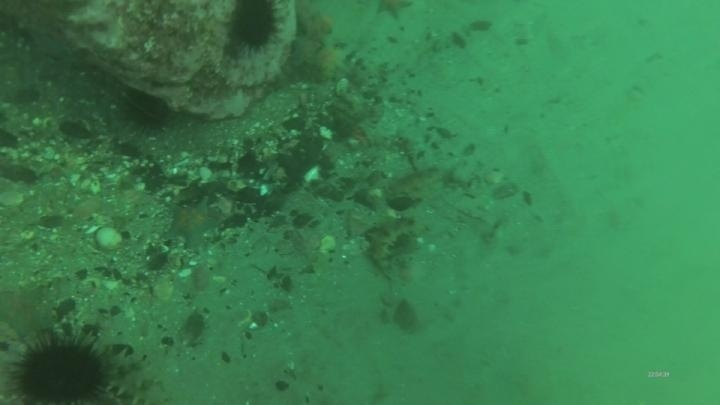echinus: (9, 331, 111, 404), (225, 1, 283, 56), (120, 88, 173, 133)
holothurian: (96, 345, 171, 405), (362, 212, 419, 275)
starfish: (1, 278, 59, 343), (165, 194, 224, 248), (311, 39, 354, 82), (372, 1, 416, 23)
